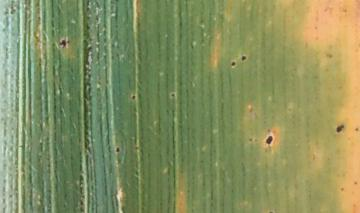tarspot: (334, 123, 345, 134), (264, 134, 273, 146), (58, 39, 67, 49), (324, 51, 333, 59), (338, 185, 346, 193), (240, 54, 248, 61), (229, 60, 236, 68), (339, 7, 347, 14), (85, 22, 91, 31), (312, 24, 319, 31), (169, 92, 176, 98), (353, 126, 359, 133), (246, 136, 252, 143), (115, 146, 120, 153), (131, 94, 136, 101), (352, 179, 357, 186)
